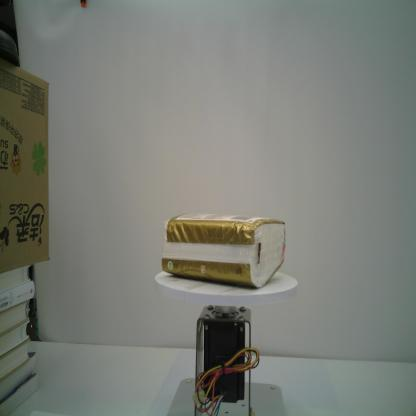Tissue: (160, 212, 289, 290)
